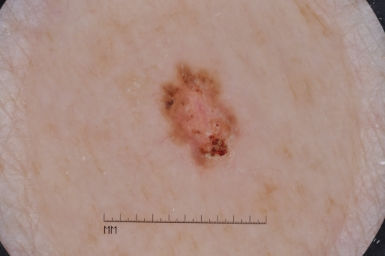seborrheic keratosis: (127, 44, 257, 179)
